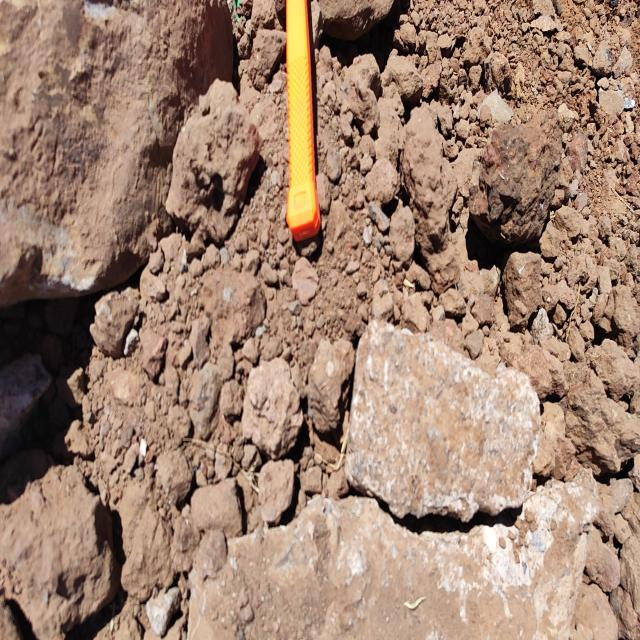Orange_hammer: (284, 1, 321, 242)
